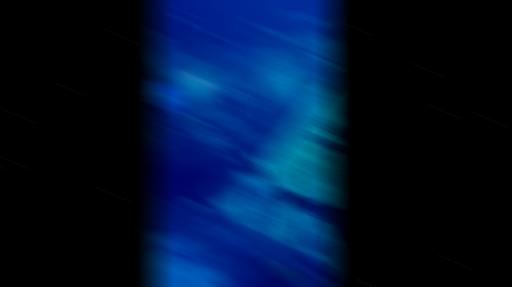Fish: (279, 188, 334, 237), (296, 199, 334, 236), (270, 262, 305, 283), (279, 188, 304, 209), (176, 115, 209, 130), (303, 79, 332, 92), (151, 91, 174, 106), (309, 135, 334, 148), (299, 13, 328, 24), (184, 201, 209, 212), (251, 156, 266, 171), (321, 118, 334, 133), (307, 238, 320, 251), (263, 246, 276, 255), (250, 86, 263, 95), (240, 181, 250, 192), (163, 127, 178, 134), (154, 140, 165, 149), (228, 104, 239, 113), (248, 21, 261, 28), (221, 143, 238, 148), (177, 16, 189, 23), (156, 117, 167, 124), (161, 199, 171, 206), (227, 128, 240, 133), (247, 32, 257, 37), (206, 32, 217, 36), (171, 46, 179, 51), (231, 159, 239, 162)
